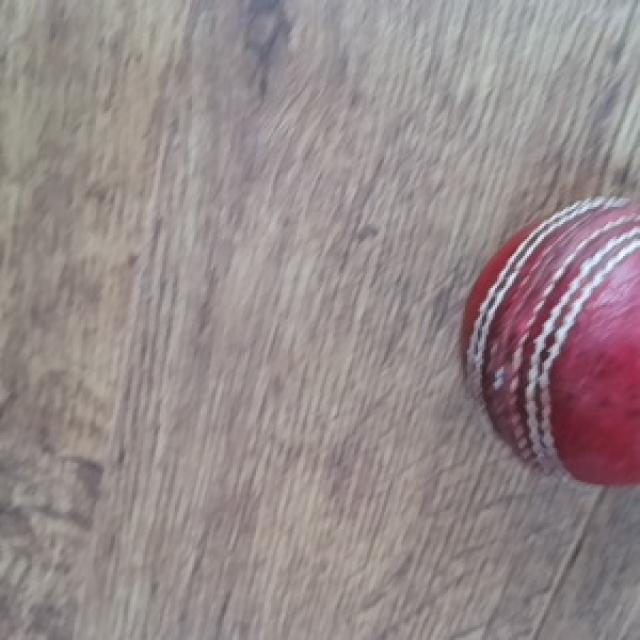ball: (461, 192, 640, 489)
